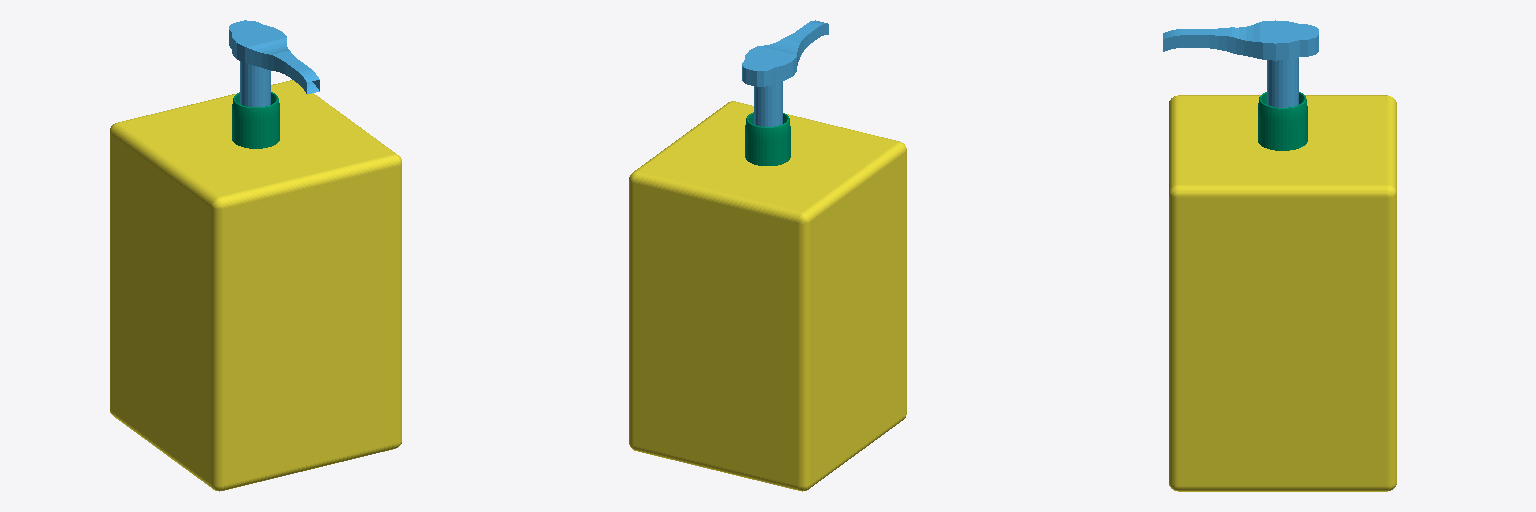
The robot description file, URDF, robot "partnet_b86e51b2-8659-4c4f-bfba-b1021d7831bb-0":
<?xml version="1.0" ?>
<robot name="partnet_b86e51b2-8659-4c4f-bfba-b1021d7831bb-0">
	<link name="base"/>
	<link name="link_0">
		<visual name="pressing_lid-1">
			<origin xyz="0.005038500000000001 0 0.0040020000000000056"/>
			<geometry>
				<mesh filename="textured_objs/original-6.obj"/>
			</geometry>
		</visual>
		<visual name="pressing_lid-1">
			<origin xyz="0.005038500000000001 0 0.0040020000000000056"/>
			<geometry>
				<mesh filename="textured_objs/original-7.obj"/>
			</geometry>
		</visual>
		<collision>
			<origin xyz="0.005038500000000001 0 0.0040020000000000056"/>
			<geometry>
				<mesh filename="textured_objs/original-6.obj"/>
			</geometry>
		</collision>
		<collision>
			<origin xyz="0.005038500000000001 0 0.0040020000000000056"/>
			<geometry>
				<mesh filename="textured_objs/original-7.obj"/>
			</geometry>
		</collision>
	</link>
	<joint name="joint_0" type="continuous">
		<origin xyz="0.0 0 0.0"/>
		<axis xyz="0 1 0"/>
		<child link="link_0"/>
		<parent link="link_0_helper"/>
	</joint>
	<link name="link_1">
		<visual name="head-3">
			<origin xyz="0.005038500000000001 0 0.0040020000000000056"/>
			<geometry>
				<mesh filename="textured_objs/original-2.obj"/>
			</geometry>
		</visual>
		<visual name="head-3">
			<origin xyz="0.005038500000000001 0 0.0040020000000000056"/>
			<geometry>
				<mesh filename="textured_objs/original-3.obj"/>
			</geometry>
		</visual>
		<collision>
			<origin xyz="0.005038500000000001 0 0.0040020000000000056"/>
			<geometry>
				<mesh filename="textured_objs/original-2.obj"/>
			</geometry>
		</collision>
		<collision>
			<origin xyz="0.005038500000000001 0 0.0040020000000000056"/>
			<geometry>
				<mesh filename="textured_objs/original-3.obj"/>
			</geometry>
		</collision>
	</link>
	<joint name="joint_1" type="continuous">
		<origin xyz="0.0 0 0.0"/>
		<axis xyz="0 1 0"/>
		<child link="link_1"/>
		<parent link="link_1_helper"/>
	</joint>
	<link name="link_2">
		<visual name="base_body-4">
			<origin xyz="0 0 0"/>
			<geometry>
				<mesh filename="textured_objs/original-4.obj"/>
			</geometry>
		</visual>
		<collision>
			<origin xyz="0 0 0"/>
			<geometry>
				<mesh filename="textured_objs/original-4.obj"/>
			</geometry>
		</collision>
	</link>
	<joint name="joint_2" type="fixed">
		<origin rpy="1.570796326794897 0 -1.570796326794897" xyz="0 0 0"/>
		<child link="link_2"/>
		<parent link="base"/>
	</joint>
	<link name="link_0_helper"/>
	<joint name="joint_3" type="prismatic">
		<origin xyz="0.0 0 0.0"/>
		<axis xyz="0 -1 0"/>
		<child link="link_0_helper"/>
		<parent link="link_1"/>
		<limit lower="0" upper="0.2"/>
	</joint>
	<link name="link_1_helper"/>
	<joint name="joint_4" type="prismatic">
		<origin xyz="-0.005038500000000001 0 -0.0040020000000000056"/>
		<axis xyz="0 1 0"/>
		<child link="link_1_helper"/>
		<parent link="link_2"/>
		<limit lower="0" upper="0.19200000000000017"/>
	</joint>
</robot>

--- What the picture shows (computed from the rendered views, not written in the file) ---
3 views of the same robot in one strip: view 1: azimuth 30°, elevation 25°; view 2: azimuth 150°, elevation 25°; view 3: azimuth 270°, elevation 25° (orthographic).
Robot: partnet_b86e51b2-8659-4c4f-bfba-b1021d7831bb-0 — 6 links, 5 joints (2 continuous, 2 prismatic, 1 fixed); root link base; default pose: every joint at zero.
Links seen in each view (by area): view 1: link_2, link_0, link_1; view 2: link_2, link_0, link_1; view 3: link_2, link_0, link_1.
Boxes of the visible links, <box> form: link_2: <box>110,80,401,491</box>; link_0: <box>229,20,319,106</box>; link_1: <box>232,92,279,148</box>; link_2: <box>629,101,906,491</box>; link_0: <box>742,20,828,126</box>; link_1: <box>745,112,790,165</box>; link_2: <box>1169,95,1396,491</box>; link_0: <box>1163,20,1318,107</box>; link_1: <box>1258,92,1307,150</box>.
Size in the robot's own frame: 0.8064 by 0.8262 by 1.61 metres.
Meshes: 5 distinct files referenced, 5 mesh visuals loaded (5 OBJ).